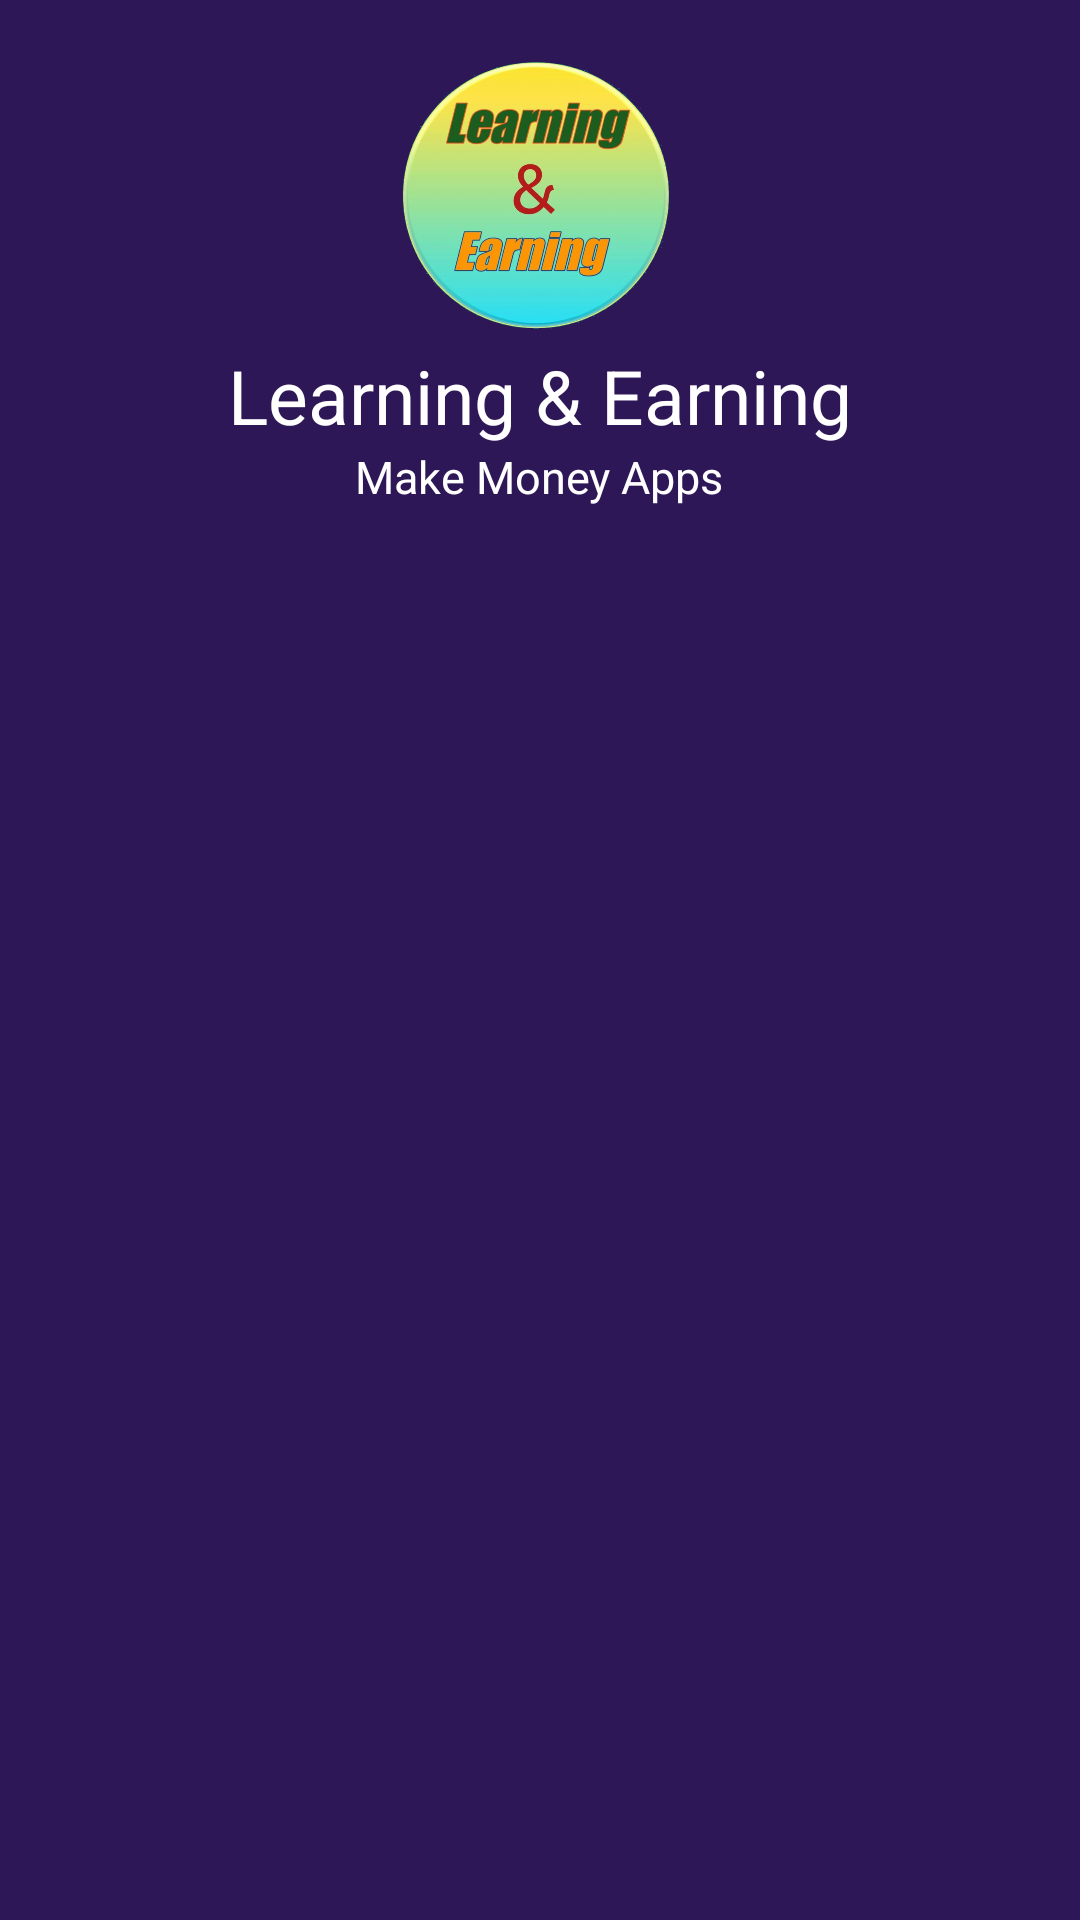

Where to tap for icons on this 1080x1920 app screen, as (x=x, y=y):
appiconle: (x=536, y=195)
